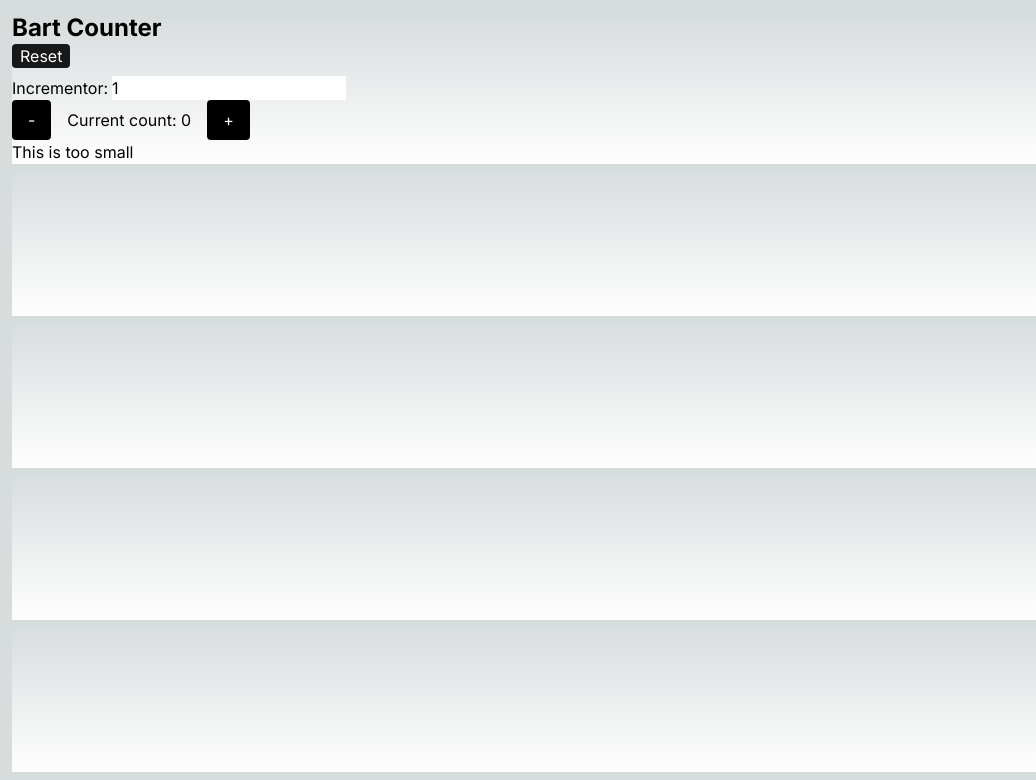
Scenario: Counter Component › defaultConter = 0 and description is 'Bart Counter' › When the + is clicked › it renders: default counter = 0 and Current count: 1
Step 1. Click the button named "increment" → [228, 120], box x1=207 y1=100 x2=250 y2=140
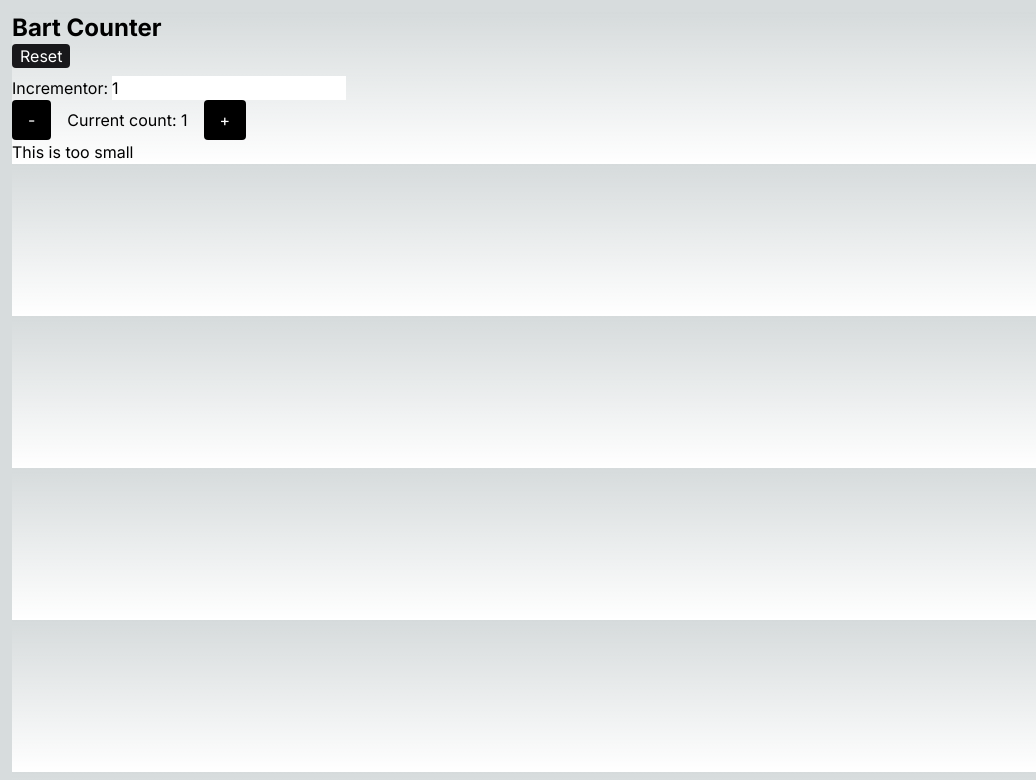
Now the text "Current count: 1" is shown, box x1=67 y1=108 x2=188 y2=132
